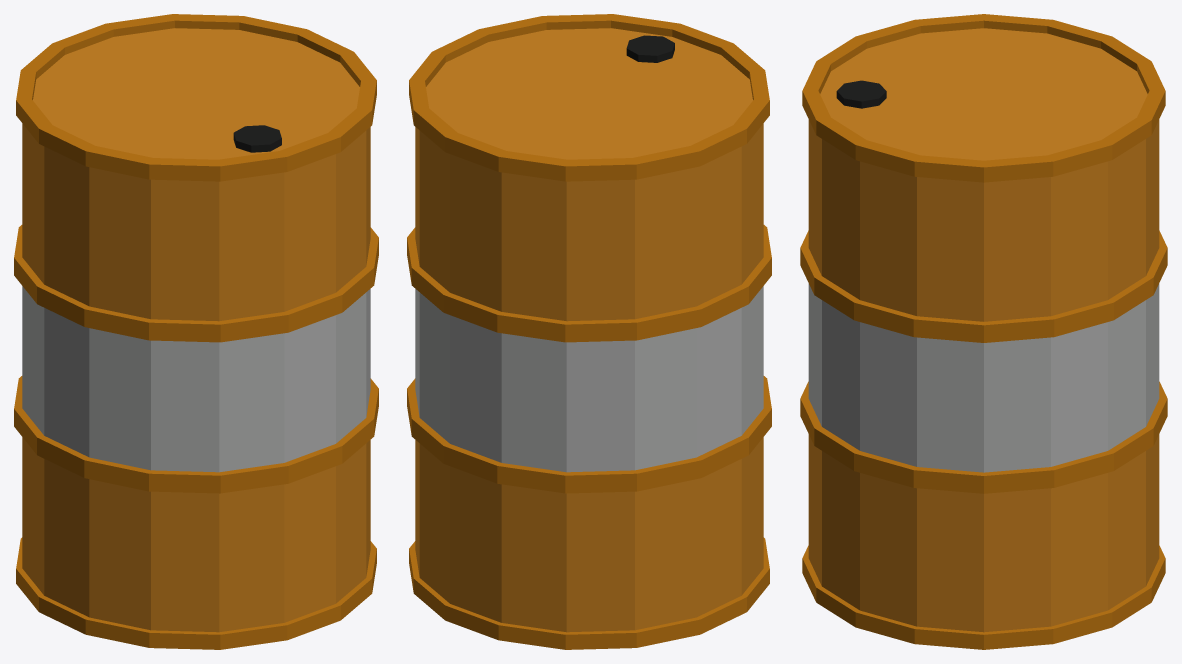
The model's file is SM_Props_Barrel_04.glb.
3 renders of one model, left to right at view 1: azimuth 30°, elevation 25°; view 2: azimuth 150°, elevation 25°; view 3: azimuth 270°, elevation 25°, orthographic.
Visible parts, largest first — view 1: SM_Props_Barrel_04; view 2: SM_Props_Barrel_04; view 3: SM_Props_Barrel_04.
Part boxes in pixels (<box>): SM_Props_Barrel_04: <box>14,14,378,649</box>; SM_Props_Barrel_04: <box>407,14,771,649</box>; SM_Props_Barrel_04: <box>800,14,1167,649</box>.
Bounding box in the file's own units: 0.607 × 0.88 × 0.607.
1 material, 1 textured.
